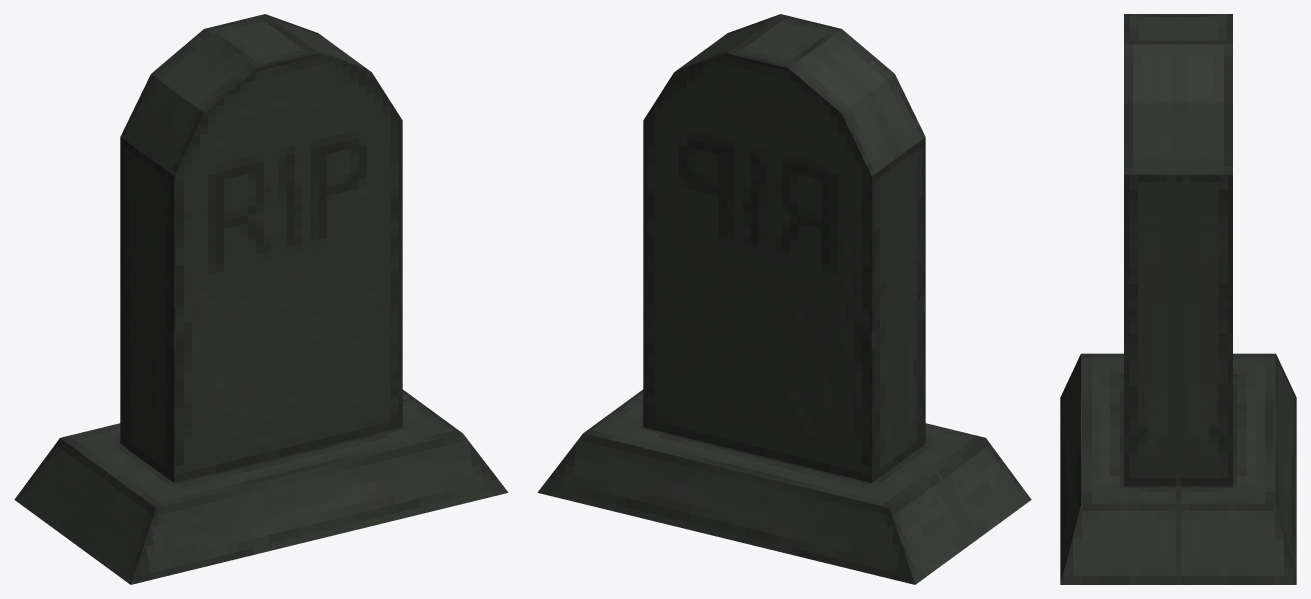
File: Graveplate_garveyard.fbx
The picture shows the model from 3 angles, left to right: view 1: azimuth 30°, elevation 25°; view 2: azimuth 150°, elevation 25°; view 3: azimuth 270°, elevation 25°; orthographic projection.
Parts seen in each view (by area): view 1: Grave_plate; view 2: Grave_plate; view 3: Grave_plate.
Part boxes in pixels (x1,y1,x2,y2): Grave_plate: (14,14,508,584); Grave_plate: (537,14,1031,584); Grave_plate: (1060,14,1296,584).
Bounding box in the file's own units: 197 × 227 × 105.
1 material, 1 textured.
